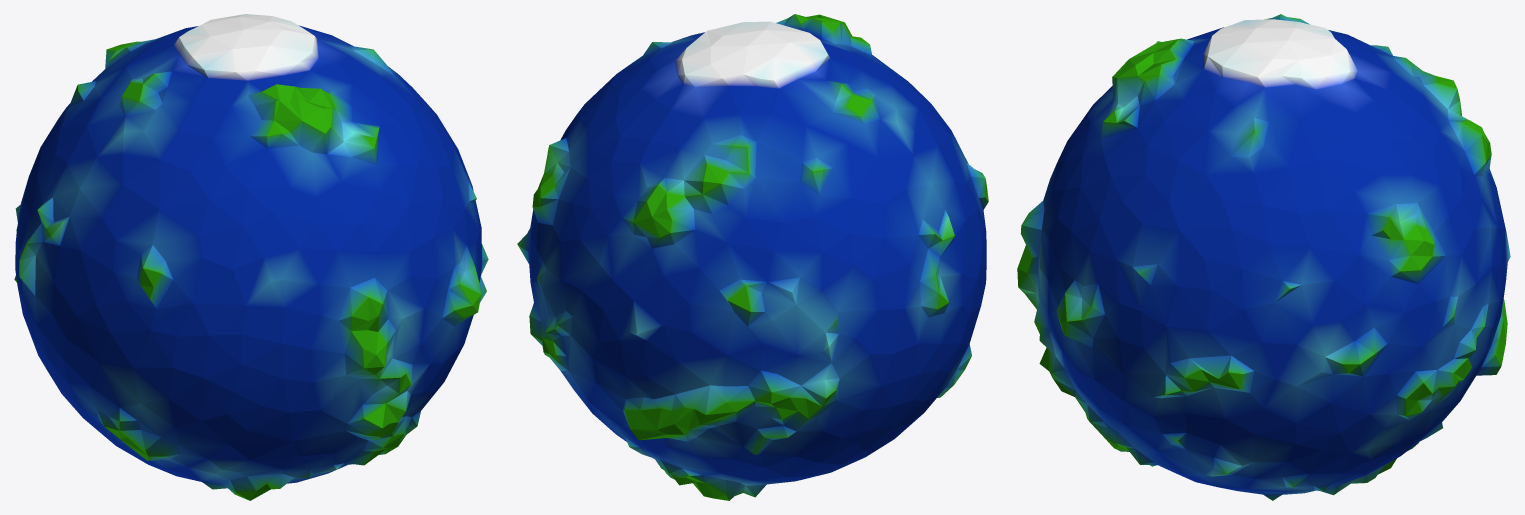
The model's file is planet_87.fbx.
The picture shows the model from 3 angles, left to right: view 1: azimuth 30°, elevation 25°; view 2: azimuth 150°, elevation 25°; view 3: azimuth 270°, elevation 25°; orthographic projection. The views are drawn at different scales.
Visible parts, largest first — view 1: file1; view 2: file1; view 3: file1.
Part boxes in pixels (x1=…): file1: x1=14, y1=14, x2=488, y2=500; file1: x1=517, y1=14, x2=988, y2=500; file1: x1=1017, y1=14, x2=1510, y2=500.
Size of the model in its own units: 2.08 by 2.03 by 2.09.
